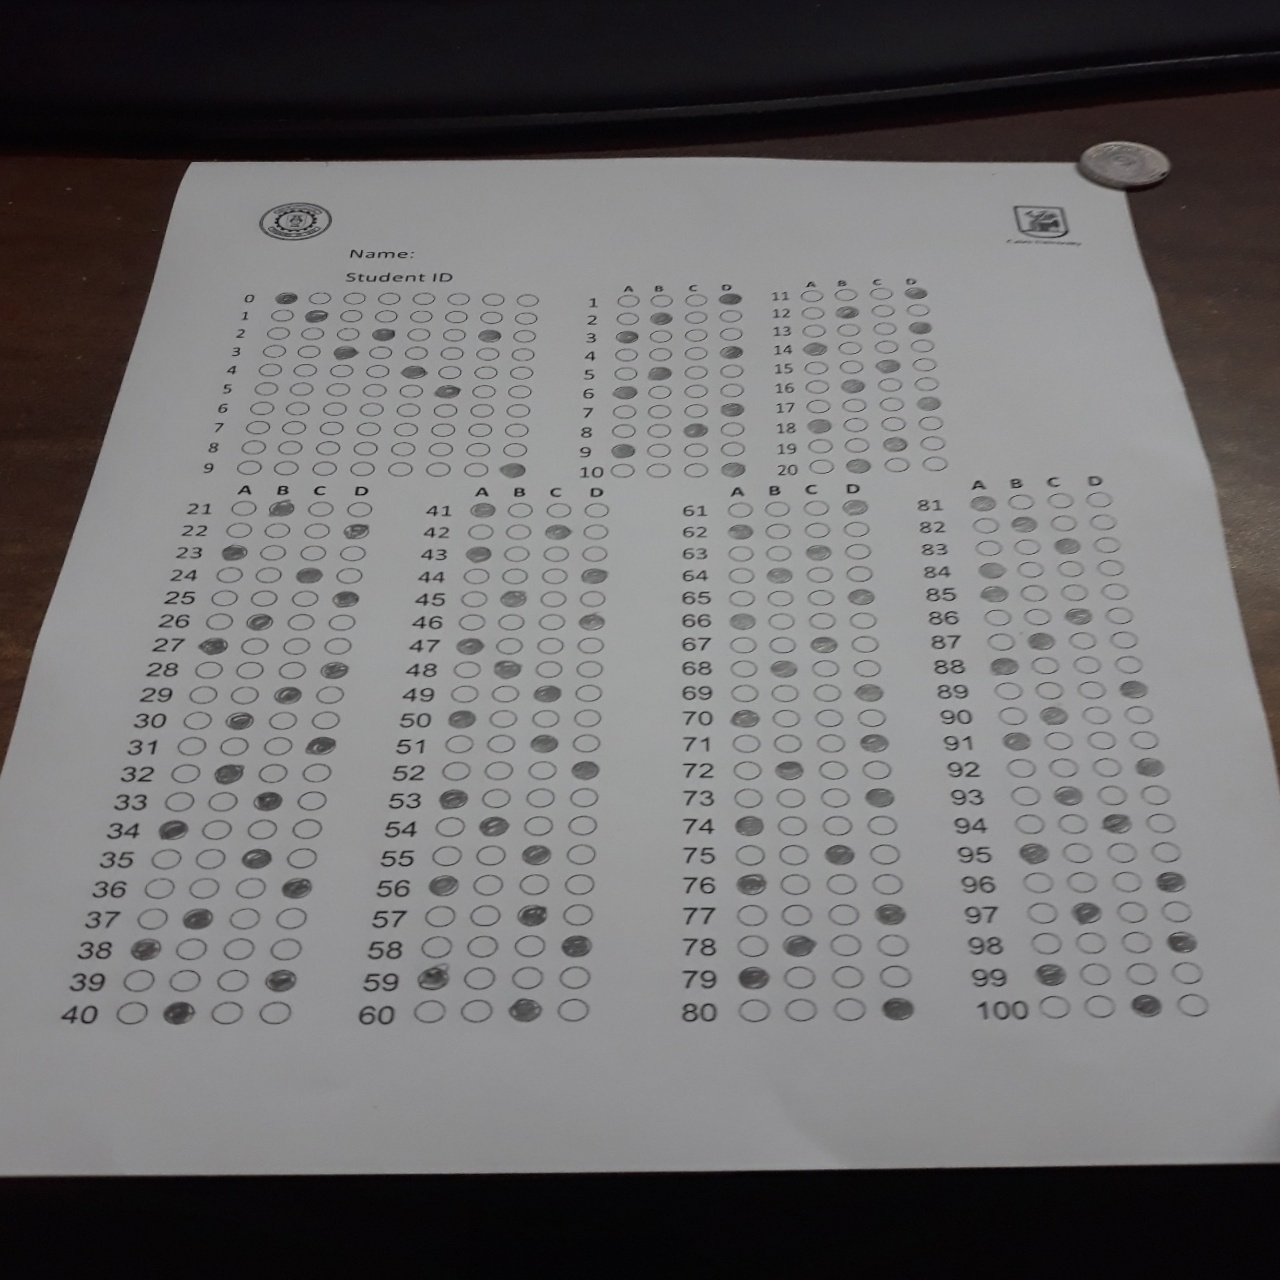not-c: (874, 932, 911, 955), (829, 932, 865, 955), (734, 904, 770, 927), (870, 872, 906, 896), (824, 871, 860, 894), (731, 843, 768, 866), (459, 998, 493, 1022), (878, 964, 915, 986), (828, 966, 865, 988), (1036, 995, 1073, 1017), (831, 996, 867, 1019), (784, 999, 821, 1021), (736, 934, 772, 956), (779, 903, 816, 925), (772, 840, 809, 863), (866, 842, 903, 864), (864, 813, 900, 836), (821, 812, 857, 835), (775, 812, 811, 835), (257, 1001, 293, 1023), (765, 680, 799, 703), (811, 679, 845, 702), (728, 680, 762, 703), (414, 1000, 448, 1023), (122, 971, 159, 992), (115, 1002, 152, 1023), (1029, 932, 1064, 954), (737, 1000, 772, 1022), (779, 873, 815, 896), (1081, 994, 1117, 1015), (825, 903, 862, 924), (207, 1002, 244, 1023), (166, 969, 203, 990), (1160, 900, 1194, 922), (730, 785, 764, 808), (728, 731, 762, 754), (813, 730, 847, 753), (561, 903, 595, 925), (554, 998, 588, 1020), (216, 971, 253, 990), (1118, 931, 1153, 952), (1077, 964, 1112, 985), (779, 965, 815, 986), (774, 785, 806, 808), (821, 784, 853, 806), (772, 731, 805, 754), (853, 707, 886, 729), (812, 704, 845, 727), (148, 847, 181, 870), (1167, 961, 1201, 982), (859, 758, 893, 779), (462, 967, 496, 988), (234, 877, 268, 898), (511, 966, 543, 988), (557, 966, 588, 988), (1114, 903, 1149, 922), (1074, 933, 1109, 953), (813, 757, 846, 778), (731, 758, 764, 779), (772, 707, 805, 728), (418, 937, 451, 958), (274, 907, 307, 928), (229, 907, 261, 928), (222, 938, 254, 959), (270, 938, 302, 959), (1123, 964, 1157, 983), (1176, 994, 1210, 1014), (245, 818, 279, 838), (292, 818, 326, 838), (195, 847, 229, 867), (434, 815, 465, 836), (1013, 813, 1046, 833), (1149, 842, 1182, 862), (1024, 903, 1057, 922), (561, 874, 594, 894), (475, 846, 508, 866), (301, 762, 334, 782), (284, 849, 316, 869), (189, 878, 222, 898), (143, 878, 176, 898), (135, 908, 168, 928), (173, 938, 206, 958), (1092, 756, 1123, 777), (565, 844, 595, 865), (1065, 871, 1099, 890), (218, 737, 252, 756), (200, 821, 234, 839), (1047, 757, 1078, 777), (1005, 756, 1036, 776), (1056, 813, 1088, 833), (1022, 871, 1054, 891), (523, 788, 554, 808), (482, 787, 513, 806), (440, 760, 471, 779), (429, 845, 461, 865), (469, 905, 501, 925), (767, 635, 796, 656), (762, 496, 791, 517), (763, 542, 792, 563), (1141, 813, 1173, 832), (1105, 843, 1138, 862), (257, 764, 290, 783), (297, 790, 329, 809), (163, 792, 196, 811), (809, 658, 839, 678), (523, 815, 553, 835), (518, 874, 549, 894), (472, 874, 503, 894), (424, 906, 455, 926), (467, 937, 497, 956), (512, 935, 543, 955), (1010, 785, 1042, 804), (1095, 787, 1126, 805), (1138, 784, 1170, 803), (1062, 843, 1094, 862), (1111, 872, 1143, 891), (850, 610, 878, 631), (846, 563, 874, 584), (806, 564, 835, 585), (806, 610, 835, 631), (727, 543, 755, 564), (727, 588, 755, 610), (765, 611, 794, 632), (853, 656, 883, 676), (763, 519, 792, 539), (765, 588, 795, 608), (530, 708, 559, 728), (260, 736, 293, 754), (267, 712, 300, 729), (307, 710, 340, 728), (1082, 704, 1112, 723), (1061, 583, 1091, 601), (983, 631, 1014, 649), (230, 686, 260, 704), (802, 496, 829, 517), (729, 658, 757, 678), (851, 633, 879, 653), (844, 540, 872, 560), (840, 517, 869, 537), (806, 587, 835, 607), (727, 567, 755, 587), (571, 733, 599, 753), (489, 707, 517, 727), (445, 733, 474, 753), (484, 760, 512, 779), (234, 660, 266, 678), (182, 712, 213, 729), (169, 764, 200, 782), (207, 791, 239, 809), (971, 516, 1000, 535), (1020, 583, 1049, 601), (485, 734, 515, 753), (188, 685, 217, 703), (729, 635, 756, 655), (804, 518, 831, 538), (1114, 654, 1144, 672), (1047, 490, 1077, 508), (1084, 731, 1115, 749), (1124, 704, 1152, 723), (568, 788, 597, 806), (567, 815, 595, 833), (527, 761, 556, 779), (315, 685, 343, 703), (1129, 731, 1160, 748), (1109, 629, 1138, 647), (1069, 631, 1098, 648), (1050, 512, 1080, 530), (1076, 680, 1105, 697), (995, 707, 1024, 724), (240, 636, 270, 654), (205, 613, 234, 631), (459, 590, 486, 608), (539, 588, 566, 607), (576, 659, 602, 678), (1015, 559, 1046, 576), (1033, 681, 1063, 697), (290, 590, 320, 606), (277, 661, 307, 678), (1085, 490, 1114, 508), (1089, 512, 1117, 530), (1104, 605, 1132, 622), (1012, 537, 1040, 554), (452, 660, 481, 678), (572, 708, 600, 726), (179, 736, 207, 754), (1095, 559, 1124, 576), (974, 538, 1003, 554), (982, 607, 1012, 624), (1032, 655, 1061, 672), (994, 682, 1023, 699), (1044, 731, 1074, 748), (573, 685, 602, 701), (297, 544, 326, 560), (253, 566, 282, 583), (215, 566, 244, 583), (286, 613, 315, 629), (280, 638, 309, 654), (195, 662, 224, 679), (467, 522, 493, 539), (535, 660, 561, 678), (467, 401, 493, 418), (474, 343, 501, 361), (1092, 536, 1121, 552), (1101, 581, 1129, 598), (1057, 559, 1085, 576), (1007, 491, 1035, 508), (1023, 607, 1051, 624), (496, 613, 524, 629), (495, 636, 523, 653), (536, 636, 564, 653), (490, 685, 518, 701), (259, 544, 287, 560), (250, 591, 278, 607), (324, 636, 352, 653), (578, 590, 604, 607), (505, 523, 531, 540), (288, 380, 314, 397), (387, 459, 413, 477), (425, 459, 451, 477), (431, 401, 457, 418), (463, 461, 489, 478), (505, 401, 531, 418), (510, 345, 536, 362), (804, 377, 830, 395), (328, 614, 358, 629), (1073, 656, 1099, 673), (726, 501, 753, 517), (576, 636, 602, 653), (462, 567, 489, 584), (501, 566, 527, 583), (540, 567, 567, 584), (538, 613, 565, 629), (459, 613, 486, 629), (452, 685, 479, 701), (302, 523, 329, 539), (234, 459, 261, 476), (282, 400, 309, 416), (280, 420, 307, 436), (213, 590, 241, 605), (583, 523, 608, 539), (546, 501, 572, 517), (508, 501, 533, 517), (542, 545, 567, 561), (504, 545, 530, 561), (338, 566, 363, 583), (230, 499, 256, 516), (226, 520, 252, 537), (240, 438, 266, 455), (248, 400, 274, 416), (254, 377, 280, 394), (258, 360, 284, 376), (292, 361, 318, 377), (277, 440, 302, 456), (273, 459, 299, 476), (309, 459, 335, 476), (318, 420, 343, 436), (322, 400, 348, 416), (327, 361, 353, 377), (362, 383, 388, 400), (359, 402, 384, 418), (354, 420, 380, 436), (350, 459, 376, 476), (393, 421, 418, 437), (429, 420, 455, 436), (393, 400, 418, 416), (397, 382, 423, 399), (471, 382, 497, 399), (501, 442, 526, 458), (506, 382, 532, 399), (512, 327, 538, 343), (440, 343, 465, 360), (441, 326, 467, 342), (404, 346, 430, 362), (406, 327, 431, 343), (513, 291, 539, 307), (479, 291, 505, 307), (445, 290, 471, 306), (646, 422, 672, 438), (682, 291, 708, 307), (806, 437, 832, 454), (912, 375, 938, 392), (871, 320, 897, 336), (263, 522, 290, 537), (350, 440, 377, 455), (467, 421, 493, 436), (508, 365, 535, 380), (876, 377, 903, 393), (842, 417, 869, 433), (842, 437, 869, 452), (910, 338, 937, 353), (648, 291, 673, 307), (581, 546, 607, 561), (346, 501, 372, 516), (340, 545, 366, 560), (307, 501, 333, 516), (244, 418, 270, 434), (315, 440, 341, 455), (325, 380, 350, 395), (427, 441, 452, 456), (390, 441, 416, 456), (436, 363, 462, 379), (464, 441, 490, 456), (504, 421, 530, 436), (515, 309, 540, 325), (408, 308, 434, 324), (442, 308, 468, 324), (410, 290, 436, 305), (376, 290, 402, 305), (300, 326, 326, 341), (264, 325, 290, 340), (648, 346, 674, 361), (720, 382, 745, 397), (645, 462, 670, 477), (804, 399, 830, 414), (802, 360, 828, 375), (837, 340, 863, 355), (840, 360, 866, 375), (874, 338, 900, 353), (878, 396, 904, 411), (922, 455, 948, 470), (919, 435, 945, 450), (917, 415, 942, 430), (911, 356, 937, 372), (870, 302, 896, 318), (832, 285, 858, 300), (836, 322, 862, 338), (583, 503, 610, 517), (338, 308, 365, 322), (268, 308, 295, 322), (808, 459, 835, 474), (840, 399, 867, 413), (336, 325, 361, 340), (683, 309, 708, 325), (683, 363, 708, 379), (681, 402, 706, 417), (719, 421, 743, 436), (719, 363, 743, 379), (683, 442, 708, 457), (646, 443, 670, 458), (801, 305, 825, 320), (362, 363, 388, 377), (474, 365, 499, 379), (478, 309, 504, 324), (306, 291, 332, 305), (373, 308, 399, 322), (295, 343, 321, 358), (610, 423, 635, 437), (647, 404, 673, 418), (646, 384, 672, 399), (719, 327, 744, 341), (610, 463, 635, 477), (883, 458, 908, 472), (905, 302, 931, 316), (719, 307, 742, 322), (263, 343, 287, 358), (615, 293, 640, 307), (648, 328, 673, 342), (681, 328, 706, 342), (682, 345, 707, 359), (685, 384, 709, 399), (721, 442, 745, 456), (682, 463, 707, 477), (881, 416, 906, 430), (869, 285, 893, 299), (801, 324, 825, 338), (611, 366, 636, 379), (368, 345, 392, 359), (799, 287, 823, 301), (614, 346, 639, 359), (612, 406, 636, 418), (342, 291, 366, 304), (615, 311, 639, 324)
taken-c: (779, 931, 817, 958), (735, 966, 769, 993), (727, 706, 761, 730), (558, 932, 592, 956), (515, 901, 549, 926), (427, 870, 461, 894), (520, 842, 554, 866), (734, 874, 769, 898), (733, 815, 765, 839), (857, 733, 891, 756), (416, 966, 450, 989), (477, 811, 511, 835), (438, 787, 472, 810), (162, 1000, 196, 1023), (862, 787, 896, 809), (508, 998, 542, 1020), (823, 844, 855, 867), (452, 632, 484, 655), (280, 874, 313, 897), (1024, 629, 1058, 651), (873, 903, 907, 924), (181, 907, 215, 928), (1037, 704, 1069, 727), (974, 558, 1006, 580), (845, 586, 877, 608), (447, 707, 478, 729), (1001, 729, 1034, 750), (1063, 606, 1096, 627), (883, 998, 915, 1019), (240, 847, 273, 869), (128, 938, 161, 959), (491, 658, 522, 680), (1117, 679, 1151, 699), (1133, 756, 1167, 776), (1167, 931, 1201, 951), (1069, 903, 1103, 922), (1017, 843, 1049, 864), (568, 758, 600, 779), (529, 733, 560, 754), (577, 565, 608, 586), (1153, 871, 1186, 891), (1053, 785, 1085, 805), (988, 656, 1021, 676), (265, 969, 298, 989), (978, 583, 1008, 604), (492, 658, 523, 679), (496, 588, 526, 610), (544, 520, 574, 542), (1131, 995, 1165, 1014), (1035, 965, 1067, 985), (1102, 812, 1133, 832), (305, 735, 336, 755), (532, 681, 561, 702), (576, 610, 605, 631), (339, 520, 368, 542), (294, 564, 324, 585), (772, 761, 805, 779), (271, 685, 301, 704), (767, 659, 798, 678), (267, 496, 295, 517), (220, 542, 250, 561), (331, 588, 360, 608), (971, 493, 1001, 512), (462, 544, 492, 563), (245, 611, 275, 629), (198, 635, 229, 654), (319, 661, 349, 680), (225, 710, 256, 729), (213, 763, 244, 782), (157, 821, 188, 839), (803, 544, 835, 561), (728, 612, 760, 629), (1009, 515, 1039, 533), (855, 682, 884, 701), (468, 501, 497, 519), (1050, 537, 1081, 554), (838, 497, 869, 515), (765, 566, 796, 584), (724, 522, 754, 539), (256, 791, 282, 810), (806, 636, 837, 653), (879, 436, 908, 452), (501, 461, 527, 477), (907, 318, 934, 334), (681, 421, 709, 436), (843, 458, 871, 474), (840, 377, 869, 393), (372, 326, 399, 341), (476, 327, 503, 342), (610, 442, 636, 457), (647, 309, 674, 325), (648, 366, 675, 381), (719, 345, 745, 360), (302, 308, 331, 322), (399, 363, 427, 377), (431, 383, 459, 397), (614, 328, 642, 342), (717, 401, 745, 415), (799, 342, 828, 356), (806, 418, 835, 433), (874, 358, 903, 372), (913, 395, 941, 409), (901, 285, 930, 299), (333, 343, 360, 358), (274, 290, 301, 304), (612, 384, 639, 399), (720, 462, 747, 476), (835, 302, 862, 316), (717, 290, 745, 302)
